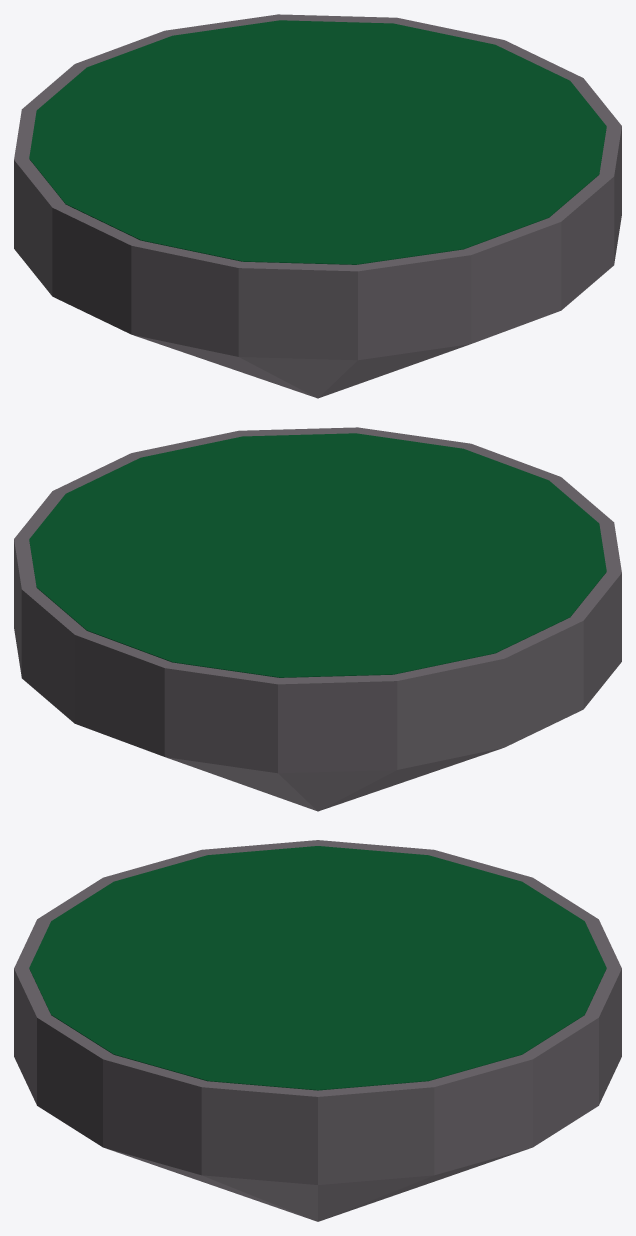
The model's file is Bld_OR_IslandCore_00.glb.
3 views of the same model, one above another, from view 1: azimuth 30°, elevation 25°; view 2: azimuth 150°, elevation 25°; view 3: azimuth 270°, elevation 25° (orthographic).
Parts seen in each view (by area): view 1: Bld_OR_IslandCore_00; view 2: Bld_OR_IslandCore_00; view 3: Bld_OR_IslandCore_00.
Boxes of the visible parts, x1,y1,x2,y2 form: Bld_OR_IslandCore_00: (14,14,621,398); Bld_OR_IslandCore_00: (14,427,621,811); Bld_OR_IslandCore_00: (14,840,621,1221).
Bounding box in the file's own units: 250 × 115 × 250.
